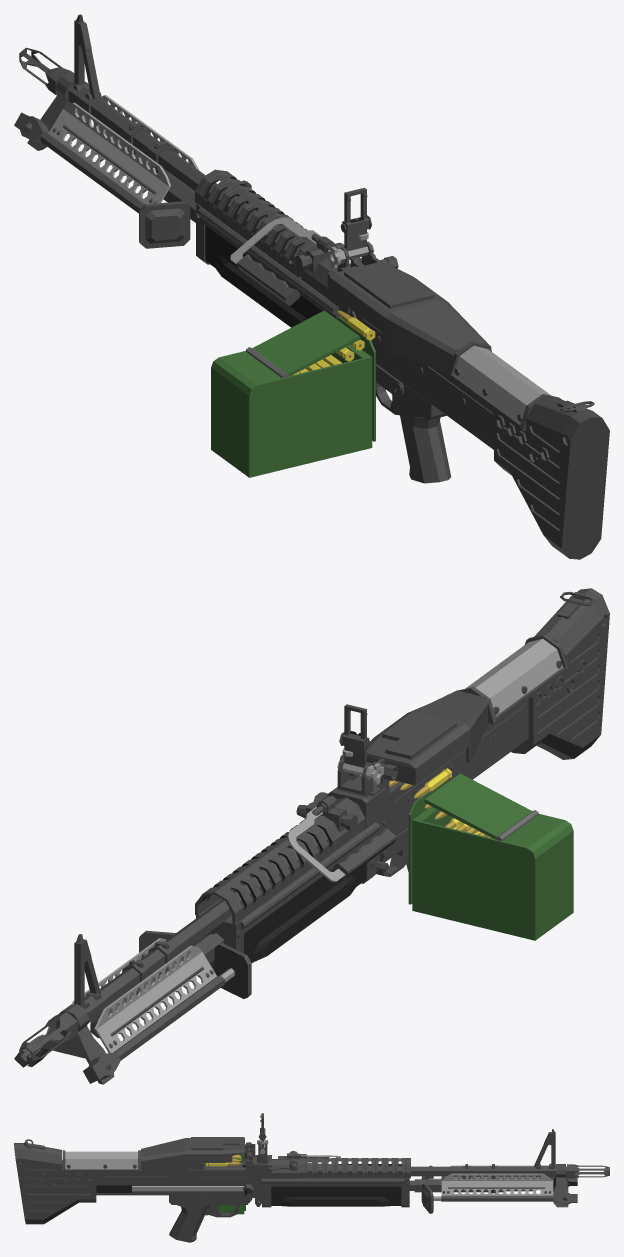
The model's file is m60_mounted.glb.
3 views of the same model, one above another, from view 1: azimuth 30°, elevation 25°; view 2: azimuth 150°, elevation 25°; view 3: azimuth 270°, elevation 25° (orthographic). The views are drawn at different scales.
Visible parts, largest first — view 1: m60_mounted; view 2: m60_mounted; view 3: m60_mounted.
Boxes of the visible parts, bbox=[...] form: m60_mounted: bbox=[14, 14, 609, 559]; m60_mounted: bbox=[14, 588, 609, 1084]; m60_mounted: bbox=[14, 1113, 609, 1242].
Bounding box in the file's own units: 0.2459 × 0.2547 × 1.11.
